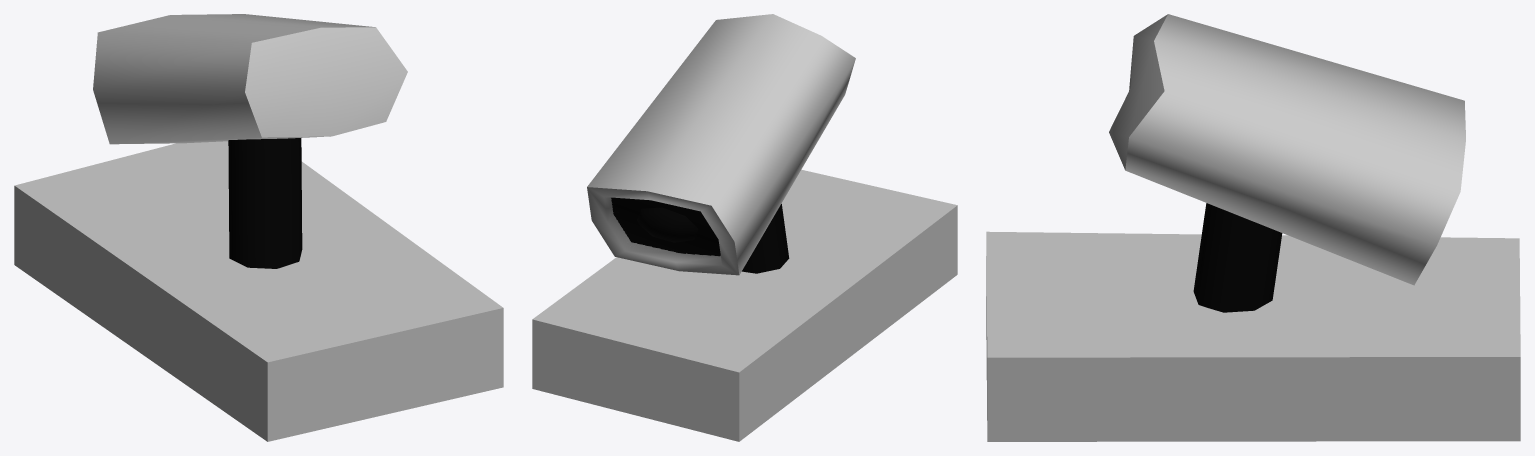
Rendered from frl_apartment_camera_02.glb.
3 renders of one model, left to right at view 1: azimuth 30°, elevation 25°; view 2: azimuth 150°, elevation 25°; view 3: azimuth 270°, elevation 25°, orthographic. The views are drawn at different scales.
Visible parts, largest first — view 1: frl_apartment_camera_02; view 2: frl_apartment_camera_02; view 3: frl_apartment_camera_02.
Part boxes in pixels (bbox=[...]): frl_apartment_camera_02: bbox=[14, 14, 503, 441]; frl_apartment_camera_02: bbox=[532, 14, 957, 441]; frl_apartment_camera_02: bbox=[986, 14, 1520, 441].
Size of the model in its own units: 0.1005 by 0.1335 by 0.1844.
Materials: 1 (1 with a texture image).
